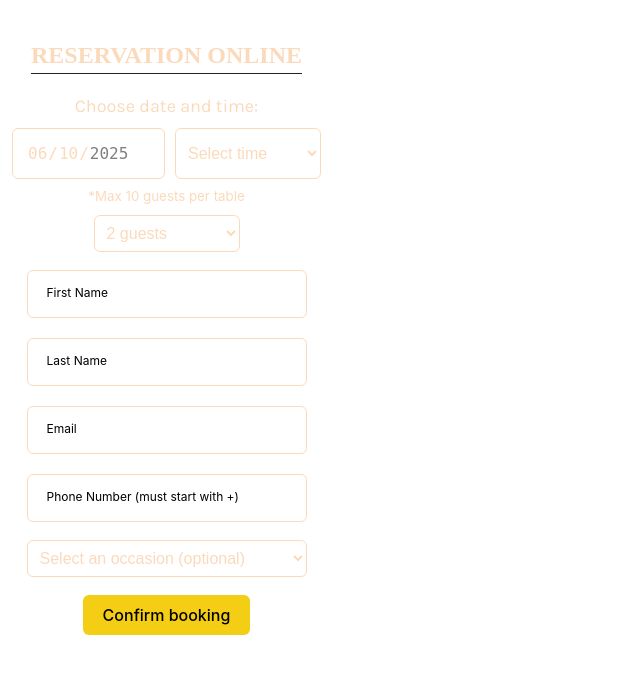
Test: BookingForm › shows success message after successful form submission
Fill in form fields with valid data
Type "John" into the field labelled "First Name".
click(166, 294); type("John")  # box [26,270,306,318]
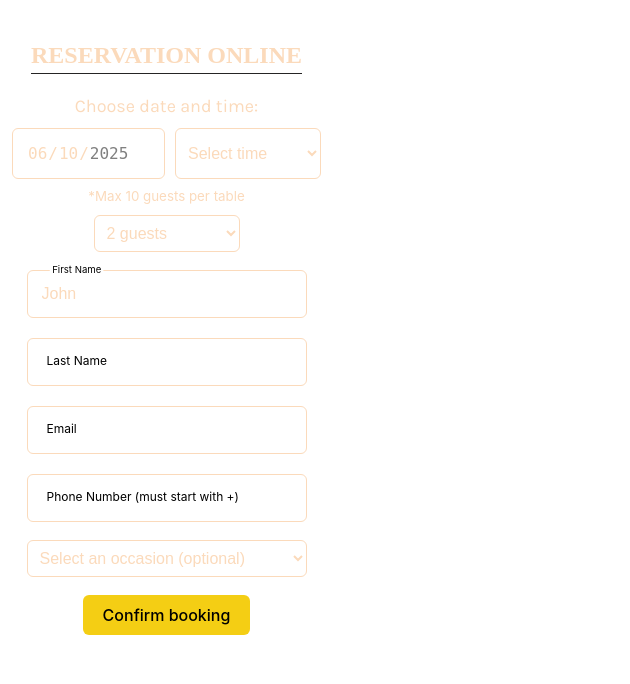
Type "Doe" into the field labelled "Last Name".
click(166, 362); type("Doe")  # box [26,338,306,386]
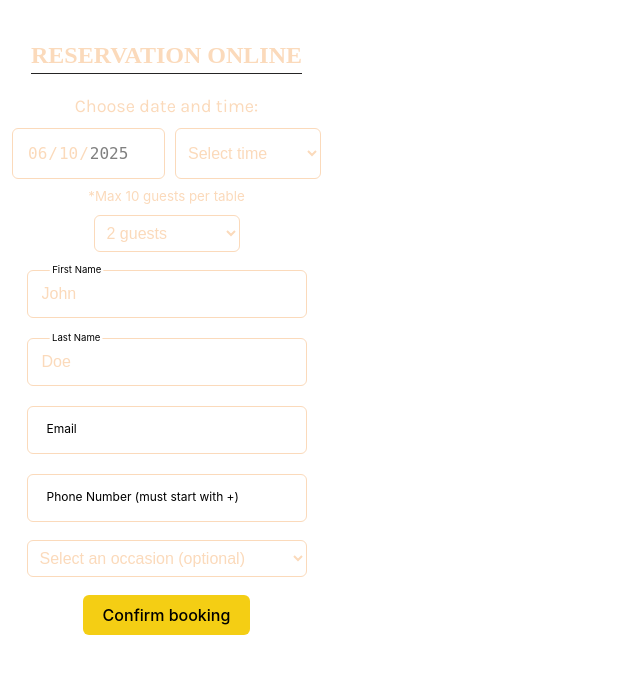
Type "john.doe@example.com" into the field labelled "Email".
click(166, 430); type("john.doe@example.com")  # box [26,406,306,454]
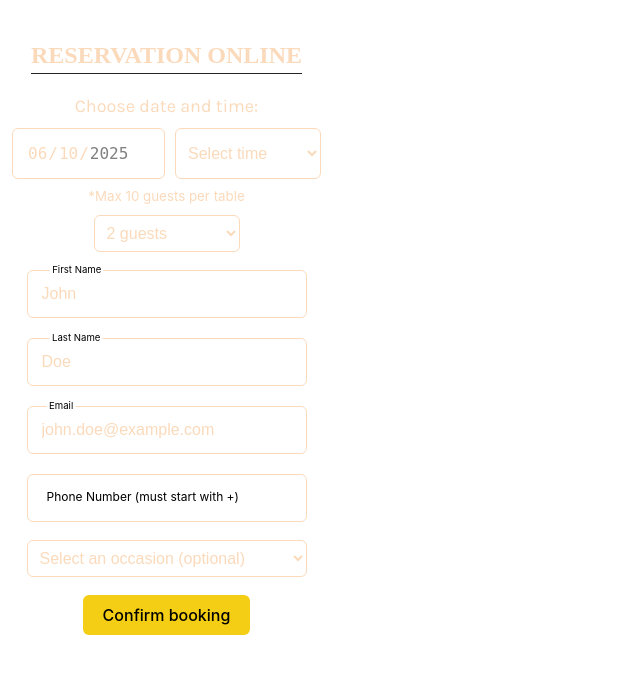
Type "+1234567890" into the field labelled "Phone Number (must start with +)".
click(166, 498); type("+1234567890")  # box [26,474,306,522]
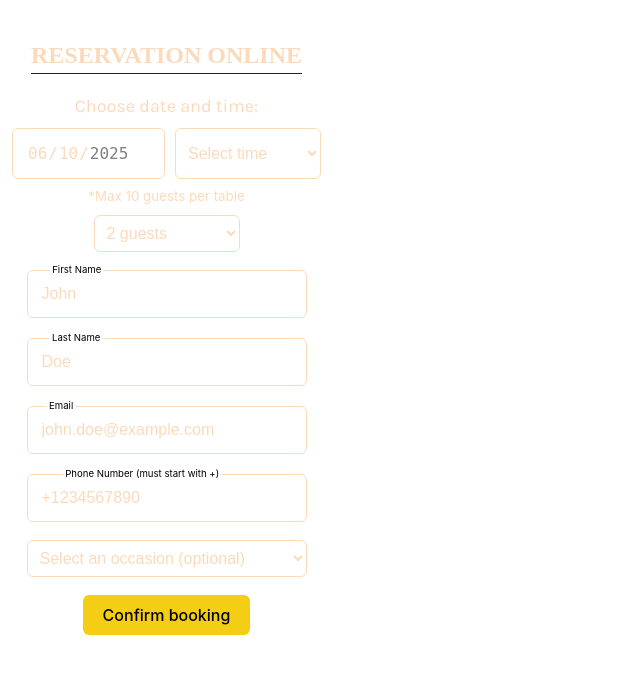
Select time
Select "18:00" in the dropdown named "Select reservation time" at [248, 154], box [175,128,321,179]
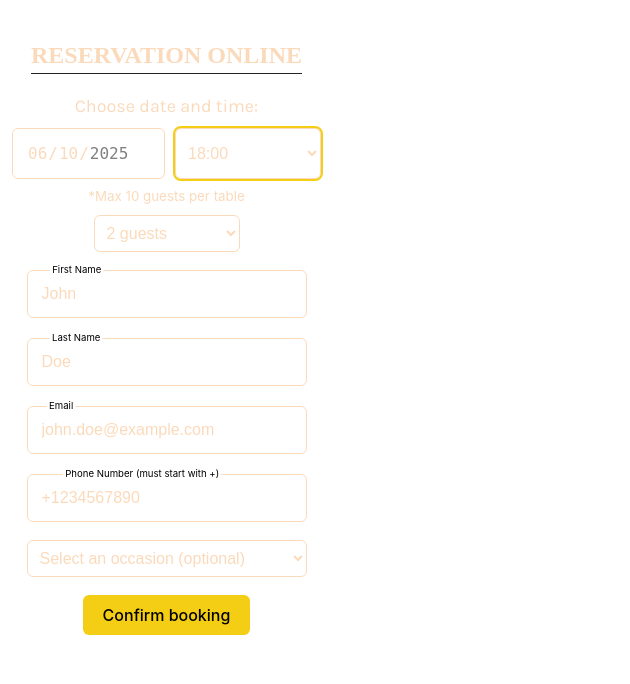
Submit form
Click the button with aria-label "Submit booking details".
click(166, 615)  # box [83,595,250,635]
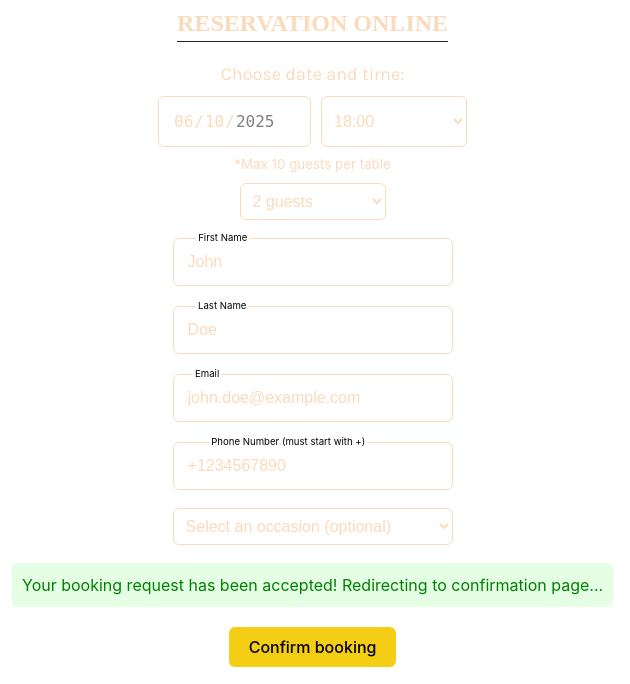
Check: the text "Your booking request has been accepted" is shown, box [22,575,603,595]
